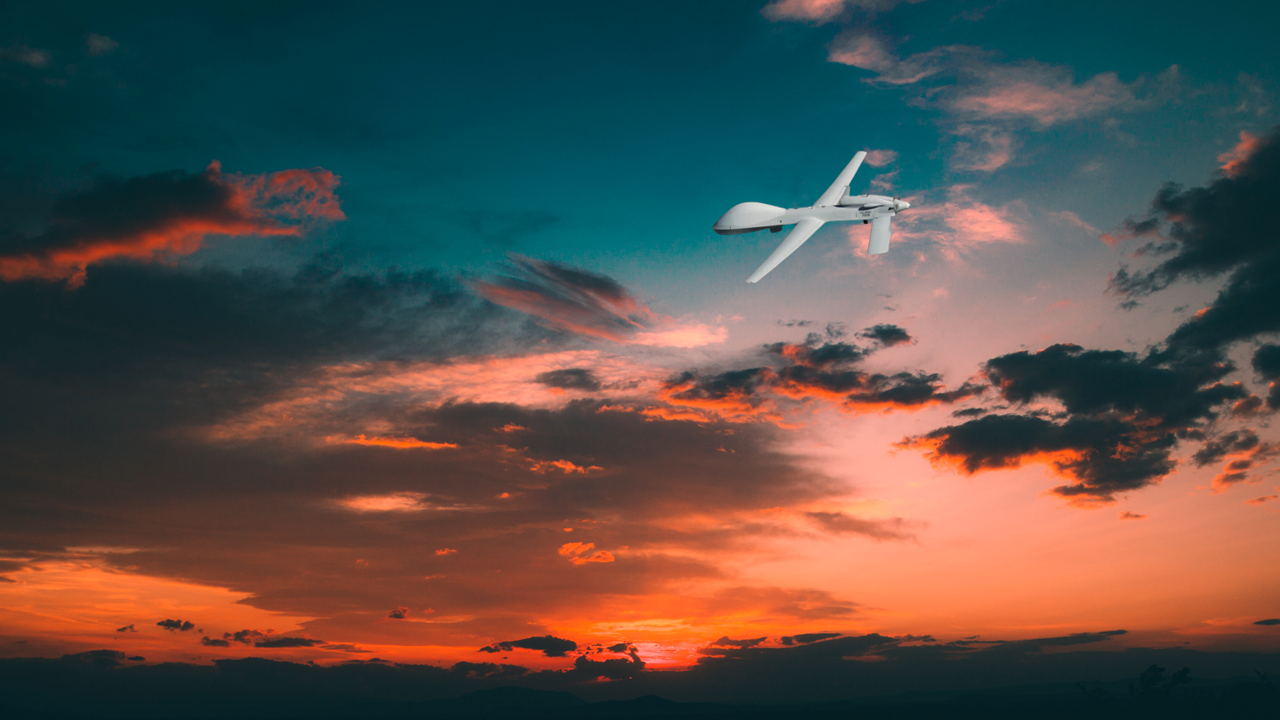military drone: (711, 150, 910, 282)
